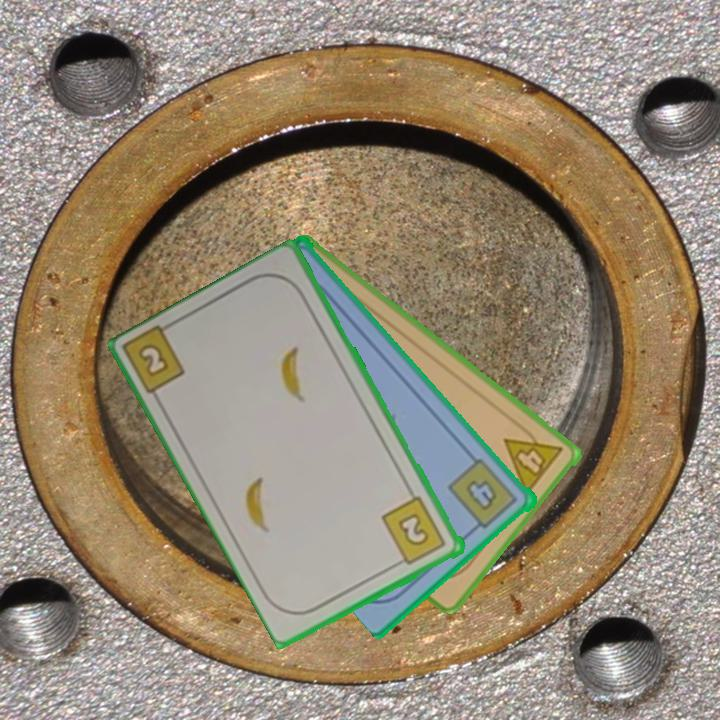2b: (378, 493, 449, 569), (134, 340, 172, 381)
4b: (445, 455, 522, 535)
4p: (500, 419, 566, 499)
